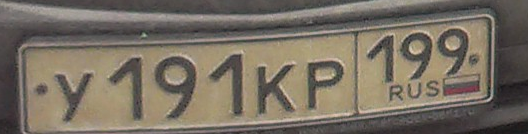character: (153, 51, 201, 123), (106, 50, 149, 126), (207, 48, 249, 122), (50, 65, 100, 126), (304, 55, 349, 115), (256, 58, 300, 116), (399, 29, 435, 83), (364, 32, 398, 87), (437, 25, 471, 79)
